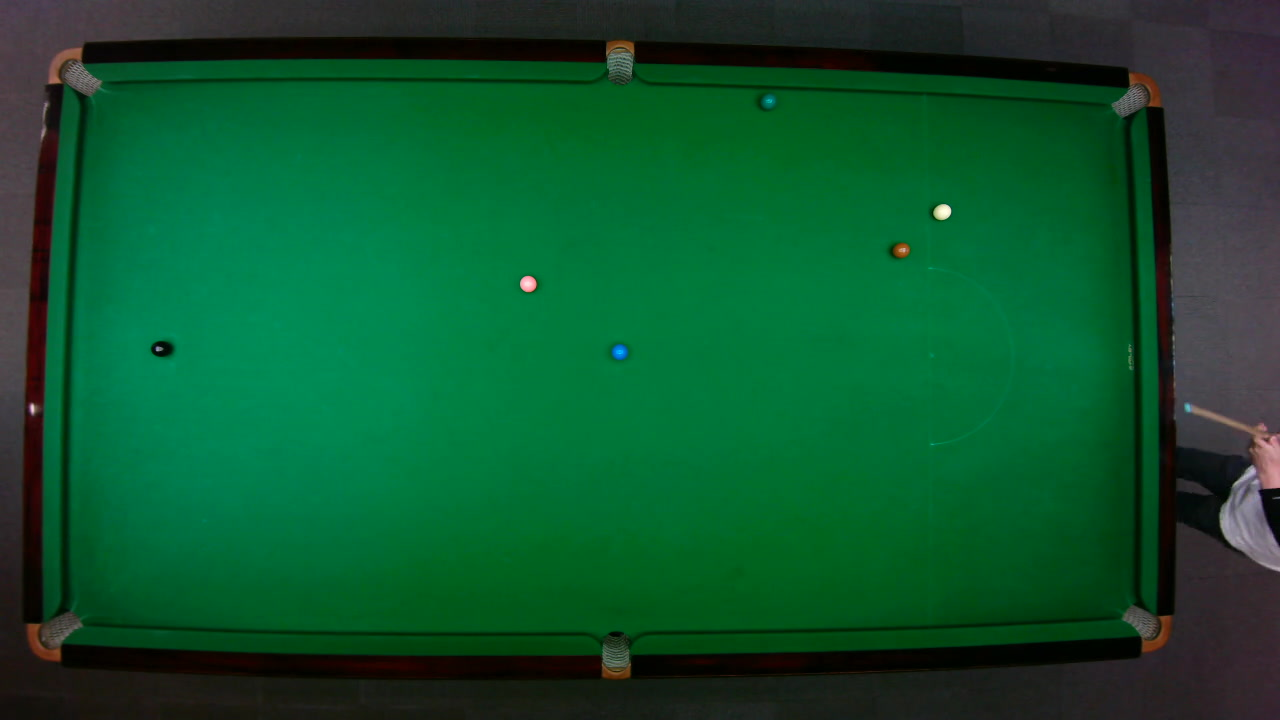bag: (24, 609, 84, 661), (45, 46, 101, 96), (1119, 603, 1171, 652), (1108, 71, 1161, 118), (600, 629, 630, 680), (605, 38, 633, 85)
black: (149, 339, 171, 357)
blue: (610, 342, 628, 360)
brown: (890, 241, 911, 258)
cue: (1182, 400, 1280, 444)
green: (758, 92, 776, 110)
pink: (517, 274, 537, 292)
white: (931, 202, 952, 220)
zone: (926, 266, 1013, 445)
